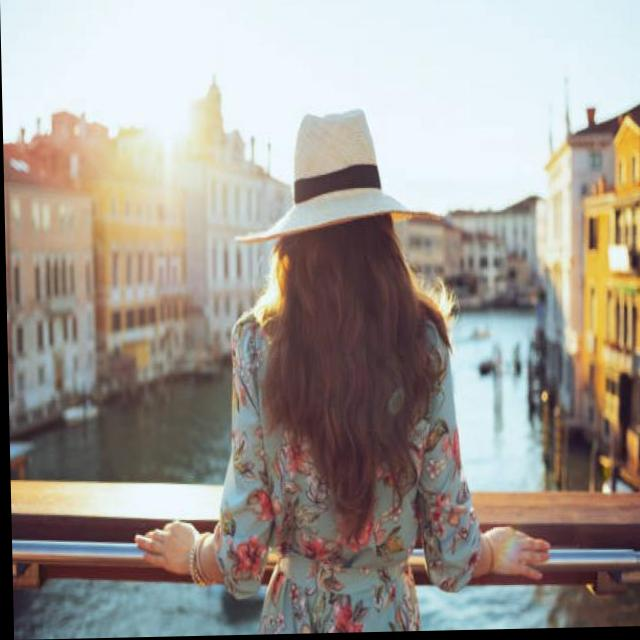no helmet: (233, 103, 436, 332)
